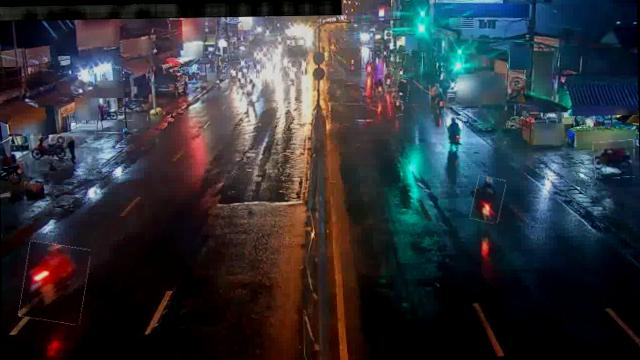Bike: (21, 241, 89, 324), (594, 140, 636, 178), (472, 176, 506, 222), (30, 134, 66, 158), (444, 116, 466, 151), (430, 83, 449, 113), (123, 98, 148, 120), (387, 88, 402, 115), (396, 78, 409, 102), (374, 76, 387, 99), (244, 76, 256, 99), (384, 68, 394, 86)
